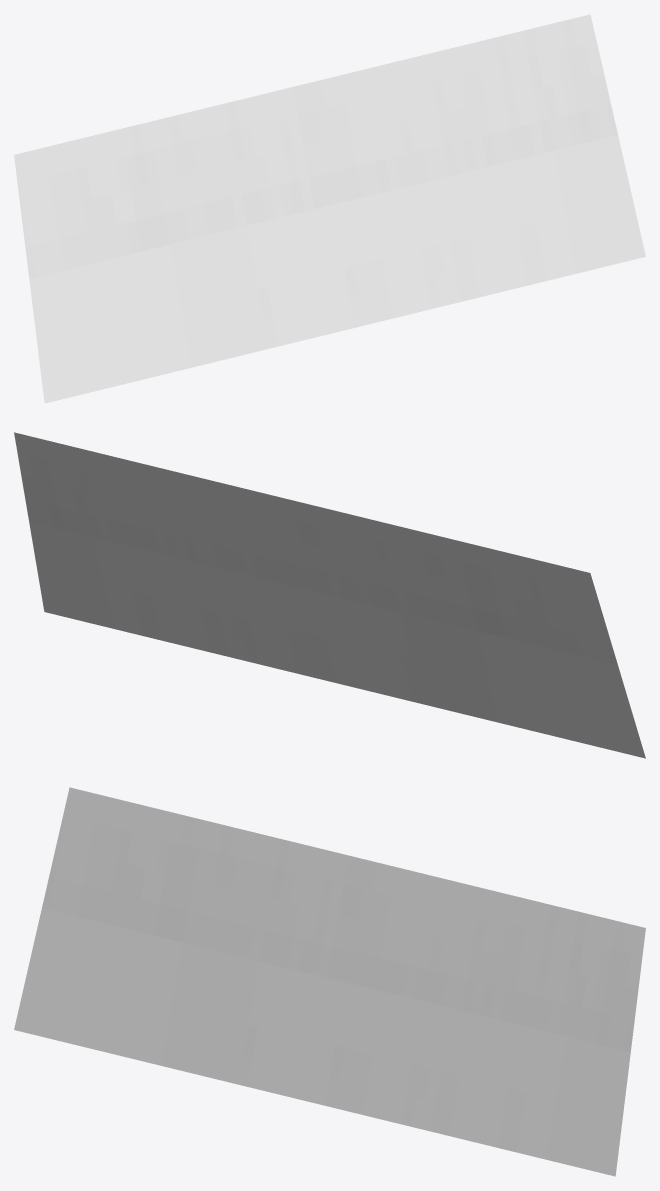
Rendered from pref_sm_city_bornroadblock_snow_lv1.fbx.
3 renders of one model, top to bottom at view 1: azimuth 30°, elevation 25°; view 2: azimuth 150°, elevation 25°; view 3: azimuth 330°, elevation 25°, orthographic.
Parts seen in each view (by area): view 1: pref_sm_city_bornroadblock_snow_lv1; view 2: pref_sm_city_bornroadblock_snow_lv1; view 3: pref_sm_city_bornroadblock_snow_lv1.
Boxes of the visible parts, bbox=[...] form: pref_sm_city_bornroadblock_snow_lv1: bbox=[14, 14, 645, 403]; pref_sm_city_bornroadblock_snow_lv1: bbox=[14, 432, 645, 758]; pref_sm_city_bornroadblock_snow_lv1: bbox=[14, 787, 645, 1176].
Size of the model in its own units: 2.63 by 0.8932 by 0.3258.
